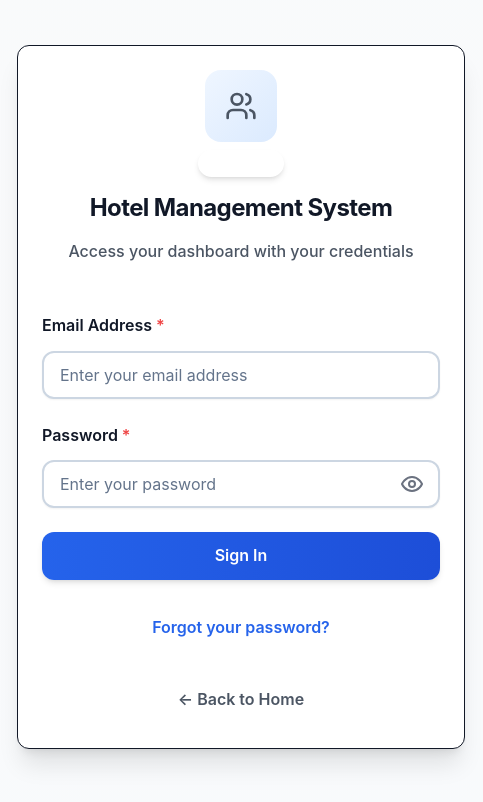
LoginPage › validates required email field
The image size is (483, 802).
Click the button "Sign In": (241, 556) [42, 532, 440, 580]
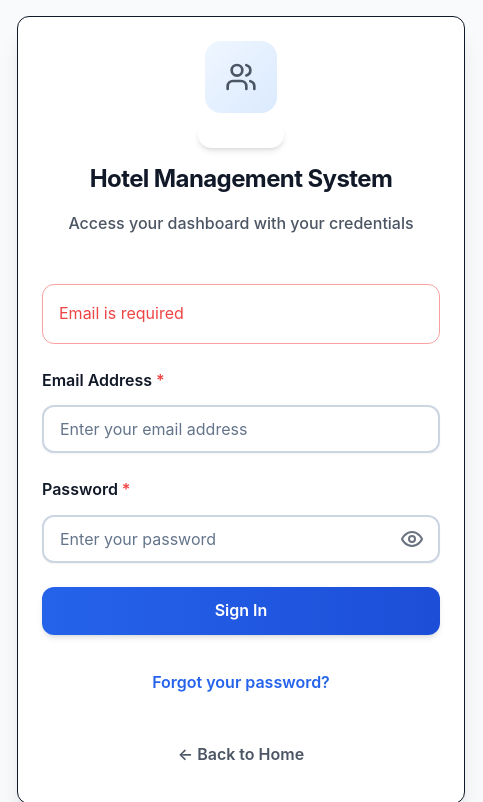
Check: the text "Email is required" is shown, box [59, 303, 184, 323]
